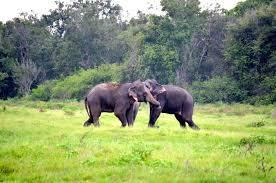elephant: (84, 80, 198, 128)
